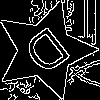D: (20, 25, 80, 84)
